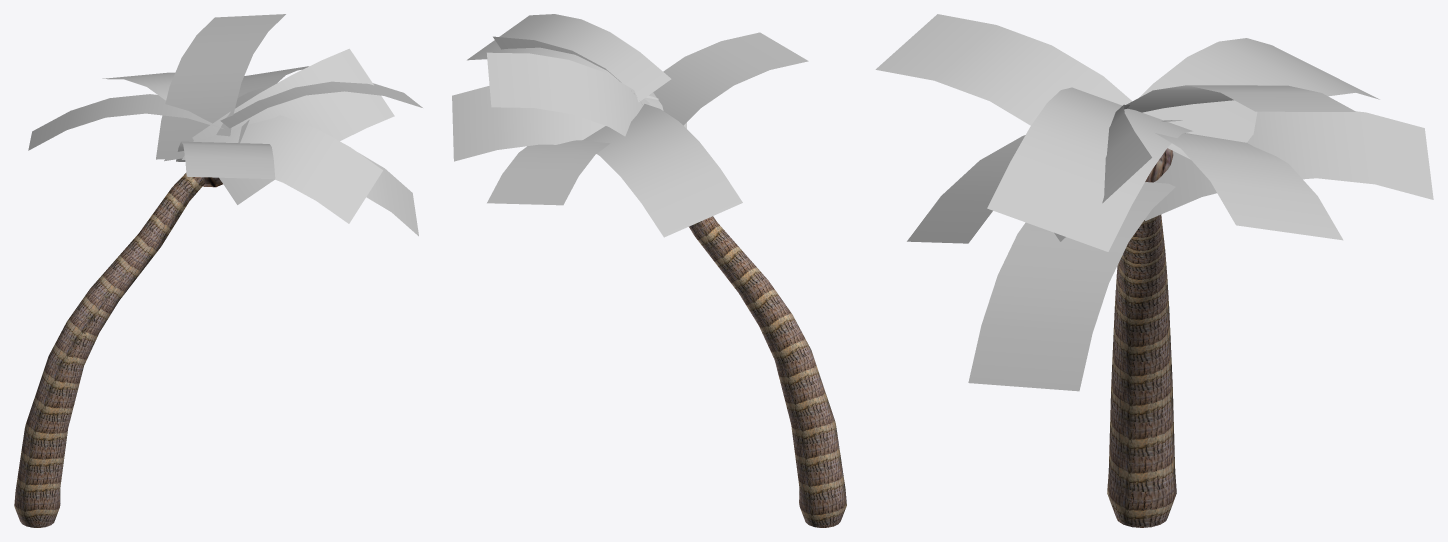
The model's file is Coconut_tree_2.fbx.
The picture shows the model from 3 angles, left to right: view 1: azimuth 30°, elevation 25°; view 2: azimuth 150°, elevation 25°; view 3: azimuth 270°, elevation 25°; orthographic projection. The views are drawn at different scales.
Visible parts, largest first — view 1: Coconut_tree_2; view 2: Coconut_tree_2; view 3: Coconut_tree_2.
Boxes of the visible parts, bbox=[...] form: Coconut_tree_2: bbox=[14, 14, 422, 527]; Coconut_tree_2: bbox=[452, 14, 846, 527]; Coconut_tree_2: bbox=[875, 14, 1433, 527].
Bounding box in the file's own units: 2512 × 2614 × 2148.
